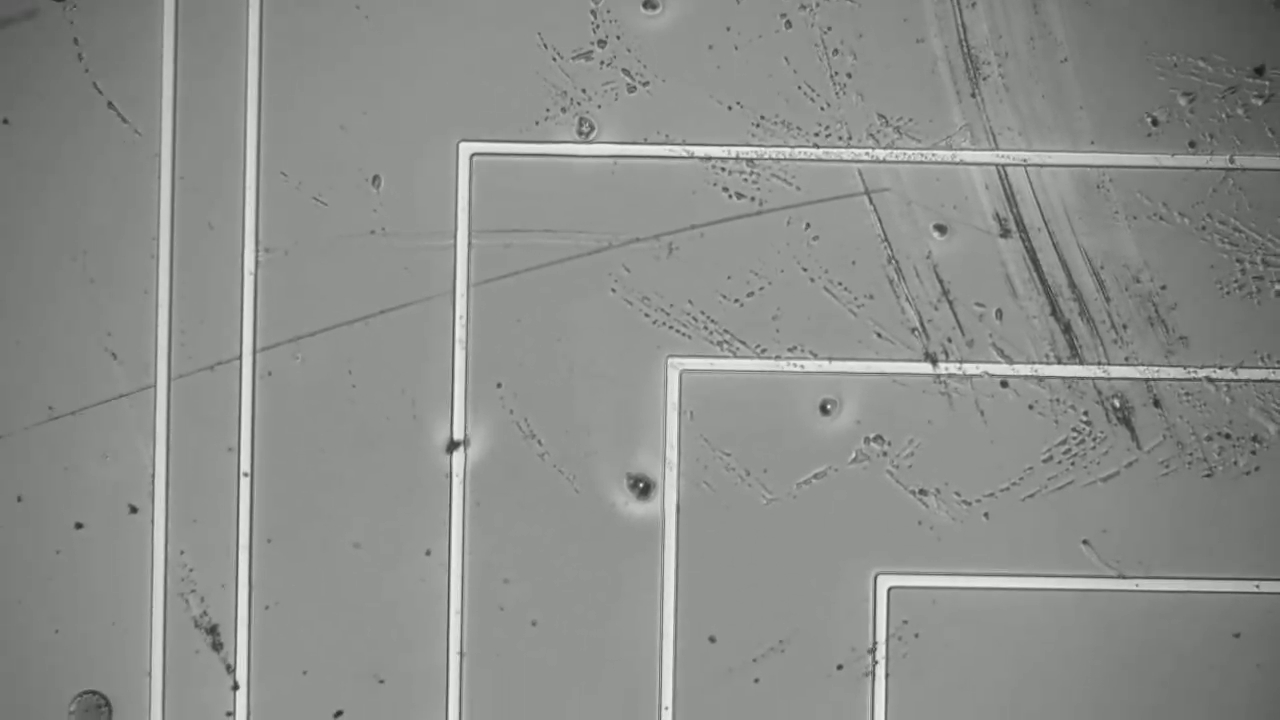scratch: (49, 181, 886, 431), (950, 1, 1163, 428), (861, 151, 953, 378), (56, 22, 157, 119)
stains_enbedded: (429, 417, 486, 467)
